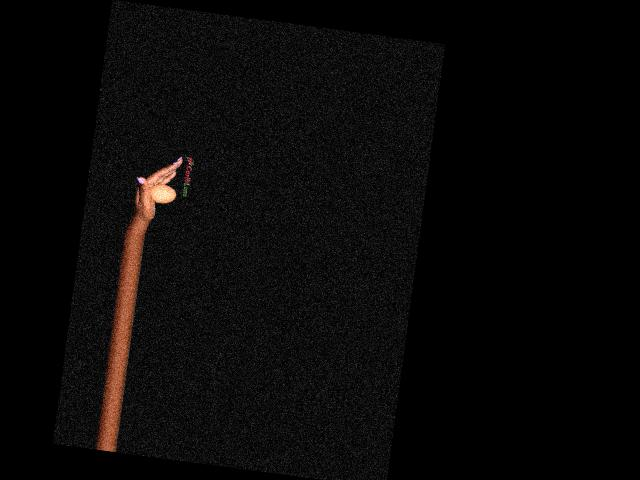egg: (149, 182, 177, 205)
